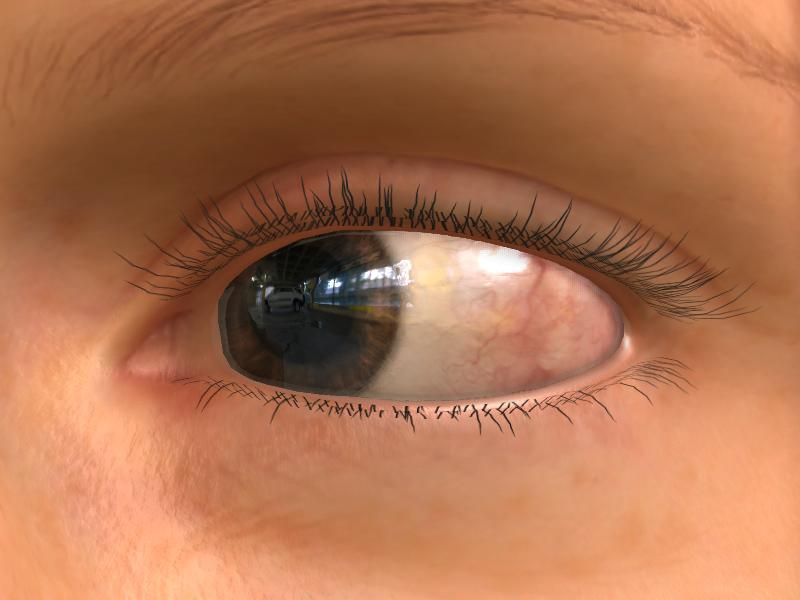eye: (220, 229, 401, 403)
